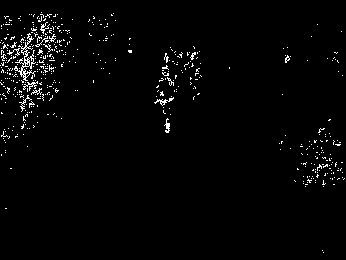person: (156, 64, 181, 135)
